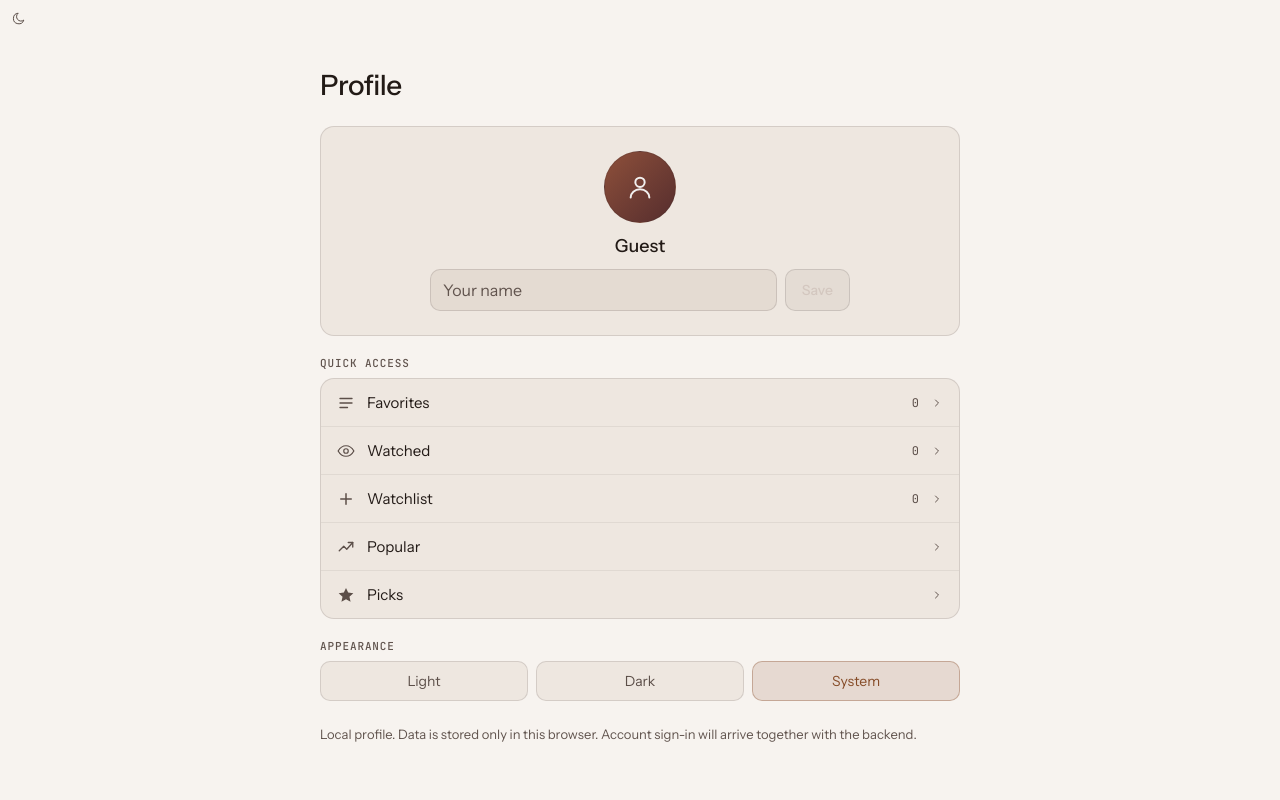
Test: Profile › клик по ThemeToggle после выбора system заменяет его на явную тему (задокументированное поведение)
Click the radio button labelled "System". click: [856, 681]
box: [752,661,960,701]
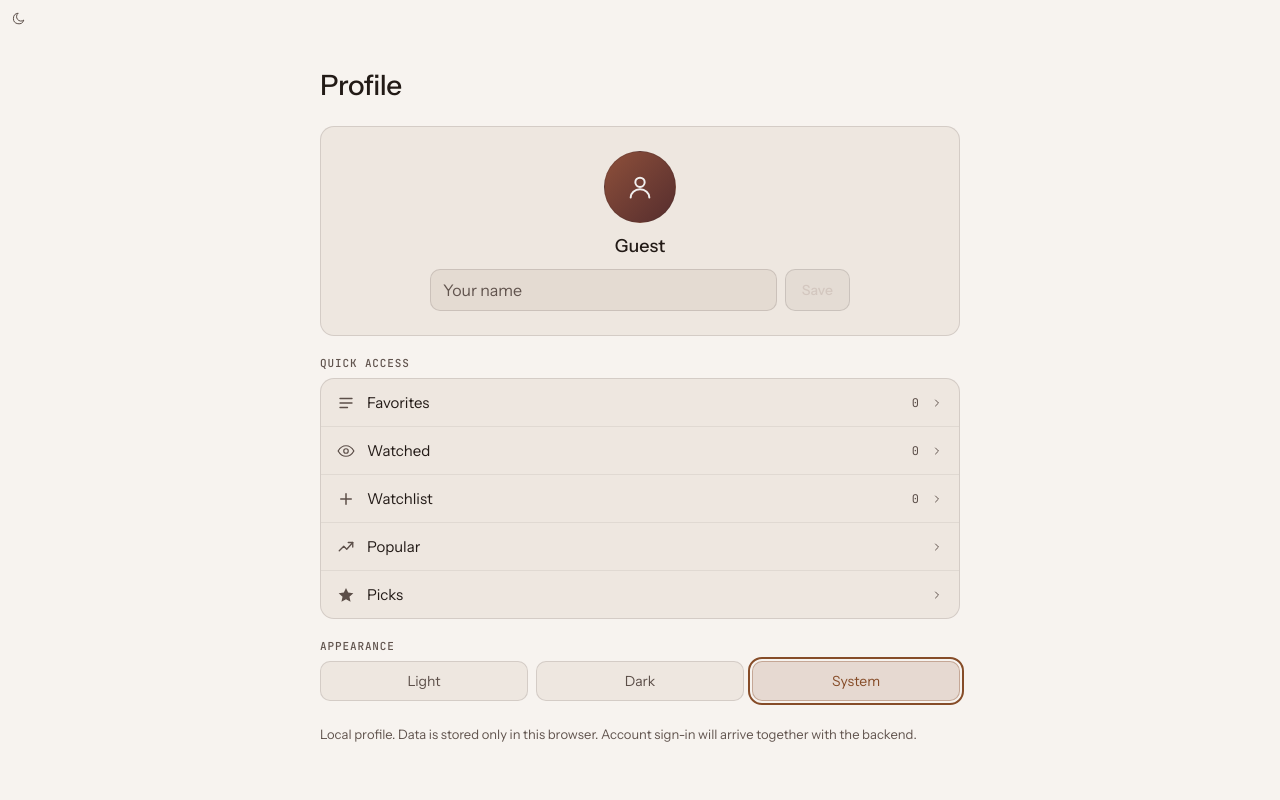
Click the button named "Switch to dark theme". click: [18, 18]
box: [0,0,36,36]
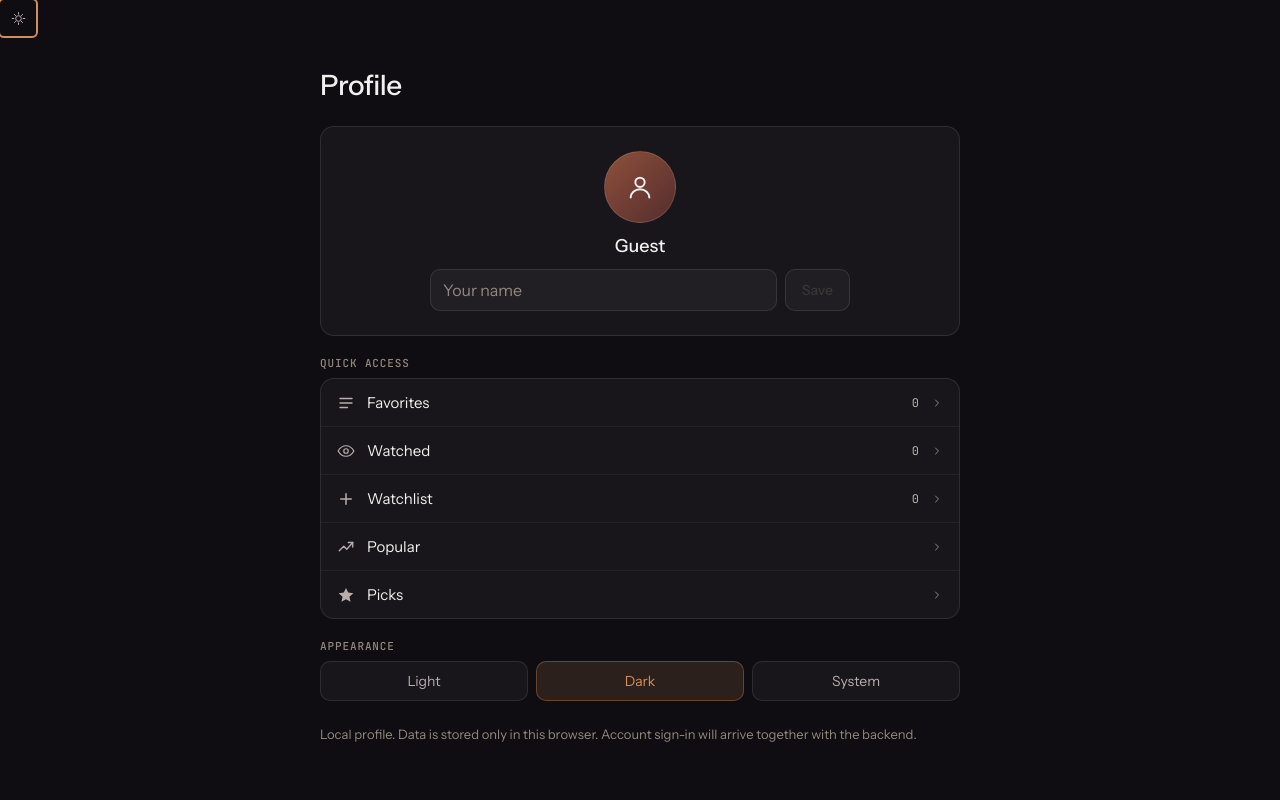
Expected: the radio button labelled "System" is not checked, [752,661,960,701]
Expected: the radio button labelled "Dark" is checked, [536,661,744,701]
